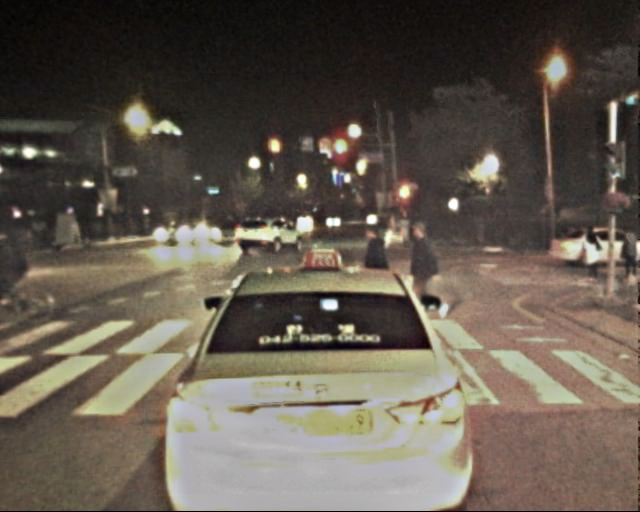person: (401, 219, 442, 319), (355, 226, 394, 320), (1, 220, 41, 306), (580, 229, 604, 288), (617, 227, 640, 286)
